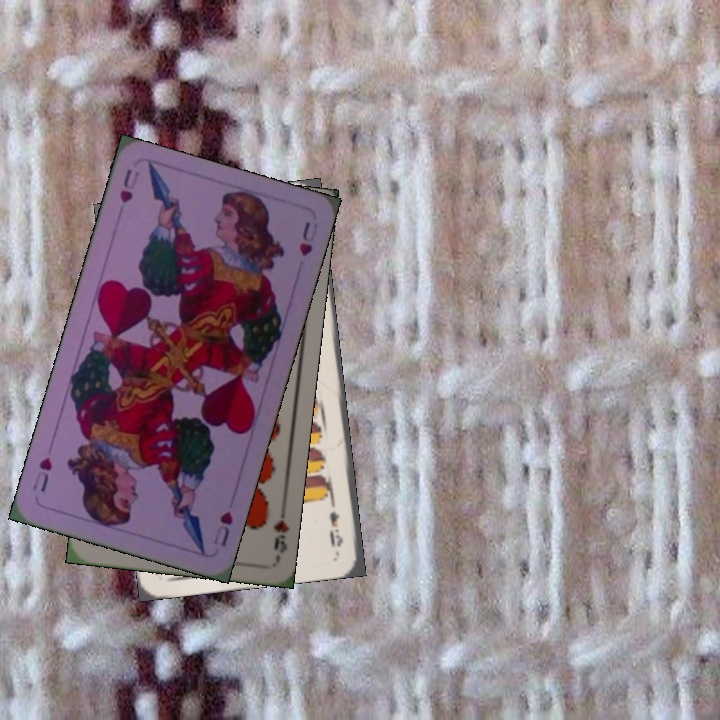E9: (325, 493, 346, 550)
H9: (269, 501, 291, 555)
HU: (209, 506, 236, 549), (115, 165, 142, 206)
